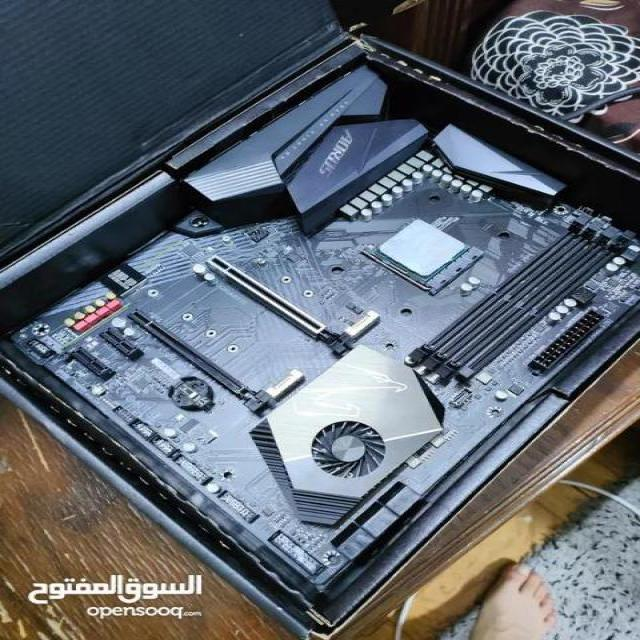CPU: (377, 218, 467, 278)
